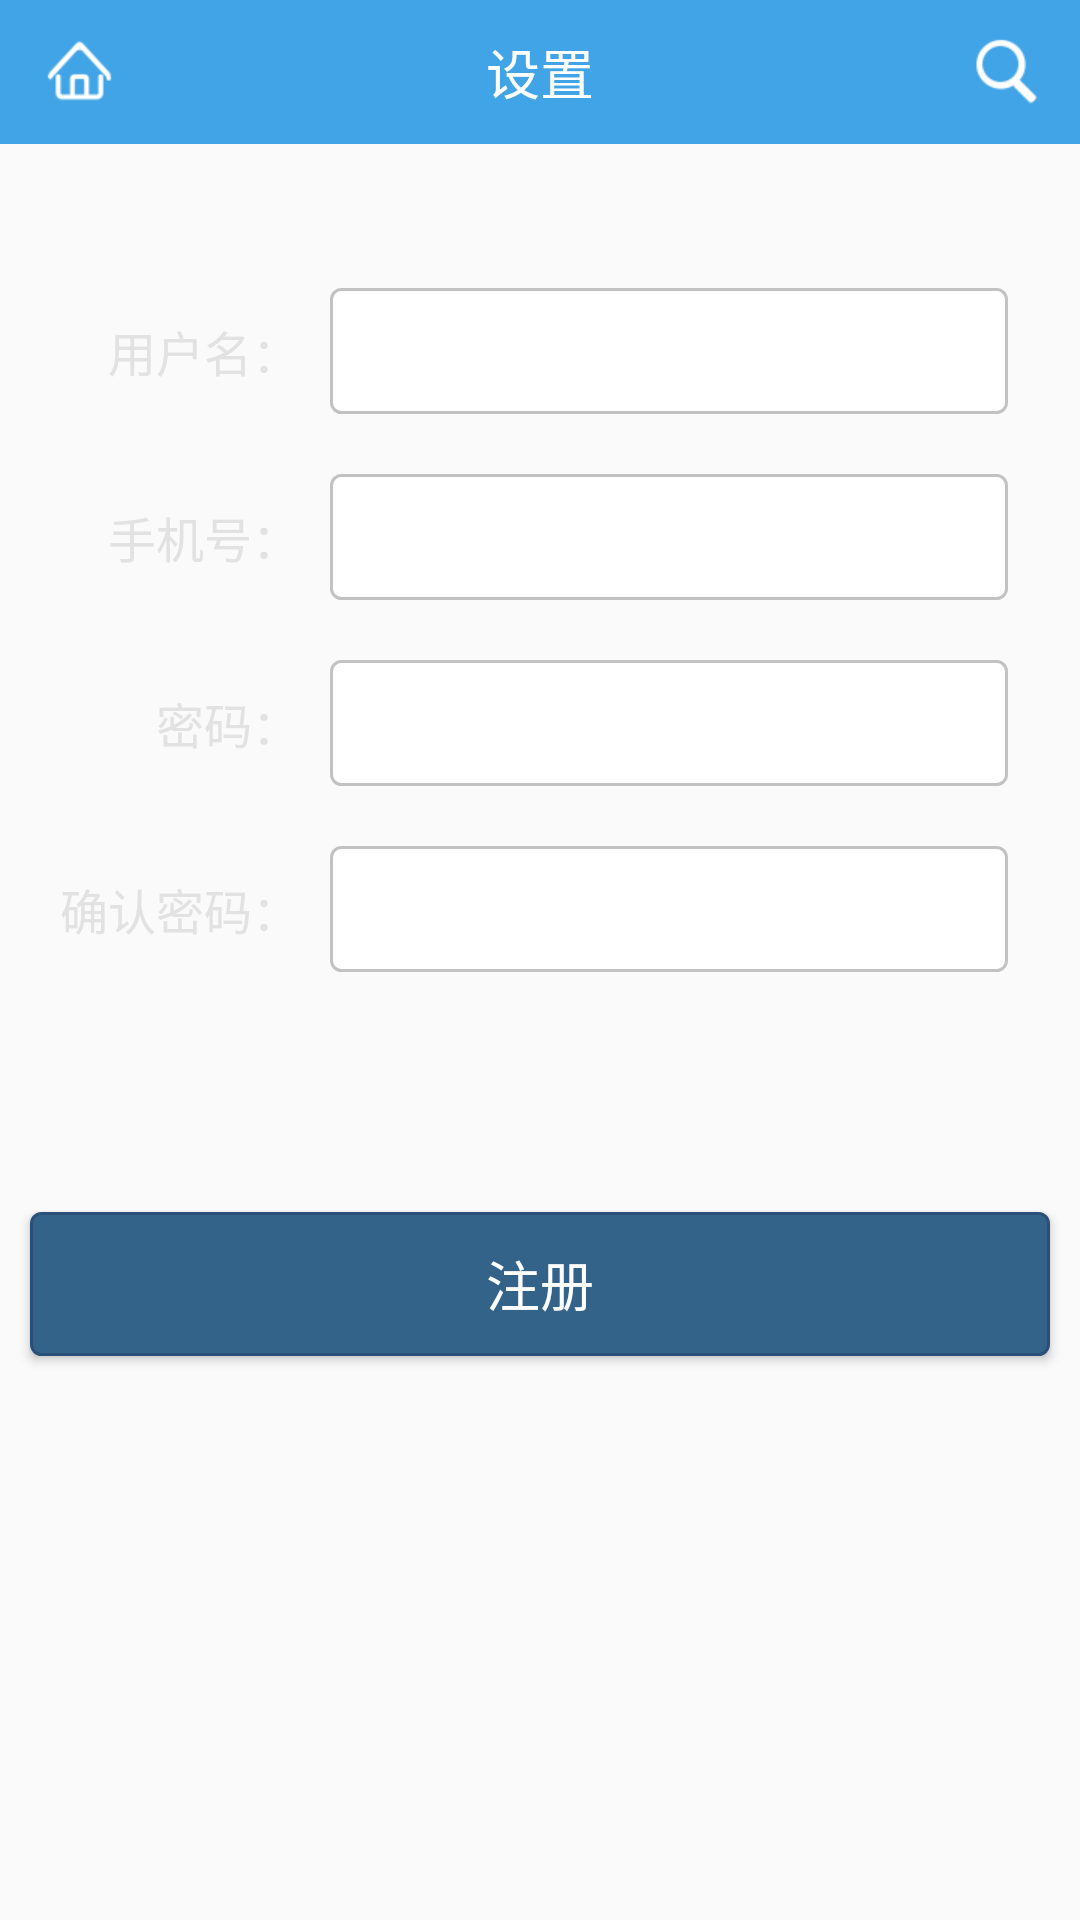

Point at icon controls on the screen. Image size 1080 × 1920, points as (x=x, y=y).
home: (x=79, y=70)
